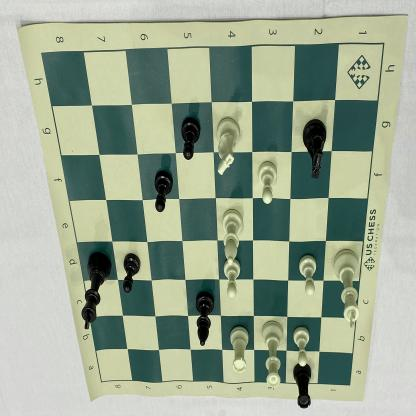black-bishop: (194, 288, 215, 349)
black-king: (79, 249, 113, 333)
black-knight: (297, 114, 330, 181)
black-pawn: (180, 114, 202, 166), (152, 167, 174, 216), (121, 250, 141, 298)
black-rook: (290, 358, 316, 412)
white-bishop: (219, 206, 247, 266)
white-king: (332, 247, 364, 332)
white-knight: (213, 113, 242, 180)
white-pawn: (288, 322, 316, 370), (258, 156, 280, 208), (297, 252, 319, 298), (222, 258, 244, 302)
white-queen: (260, 318, 286, 392)
white-rook: (227, 324, 252, 376)
